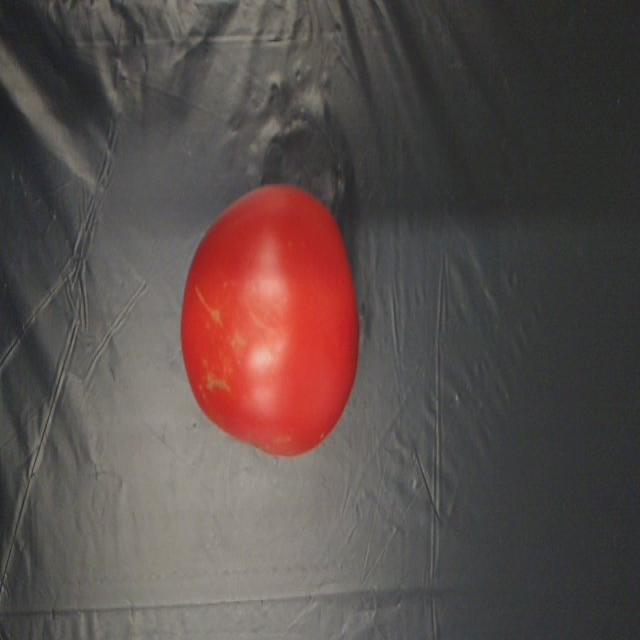kirmizi: (152, 172, 390, 512)
